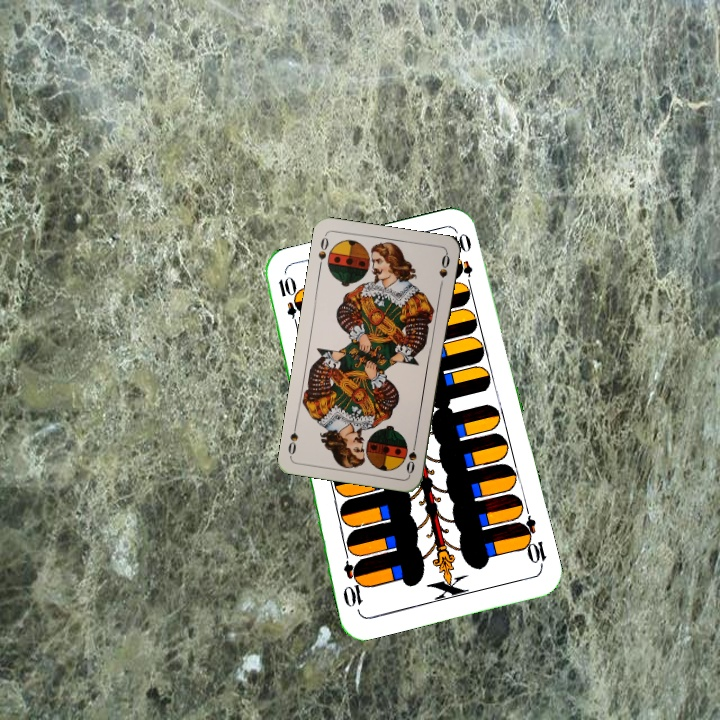E10: (514, 512, 549, 570), (274, 273, 302, 332)
SO: (314, 231, 331, 272), (402, 436, 419, 476)
